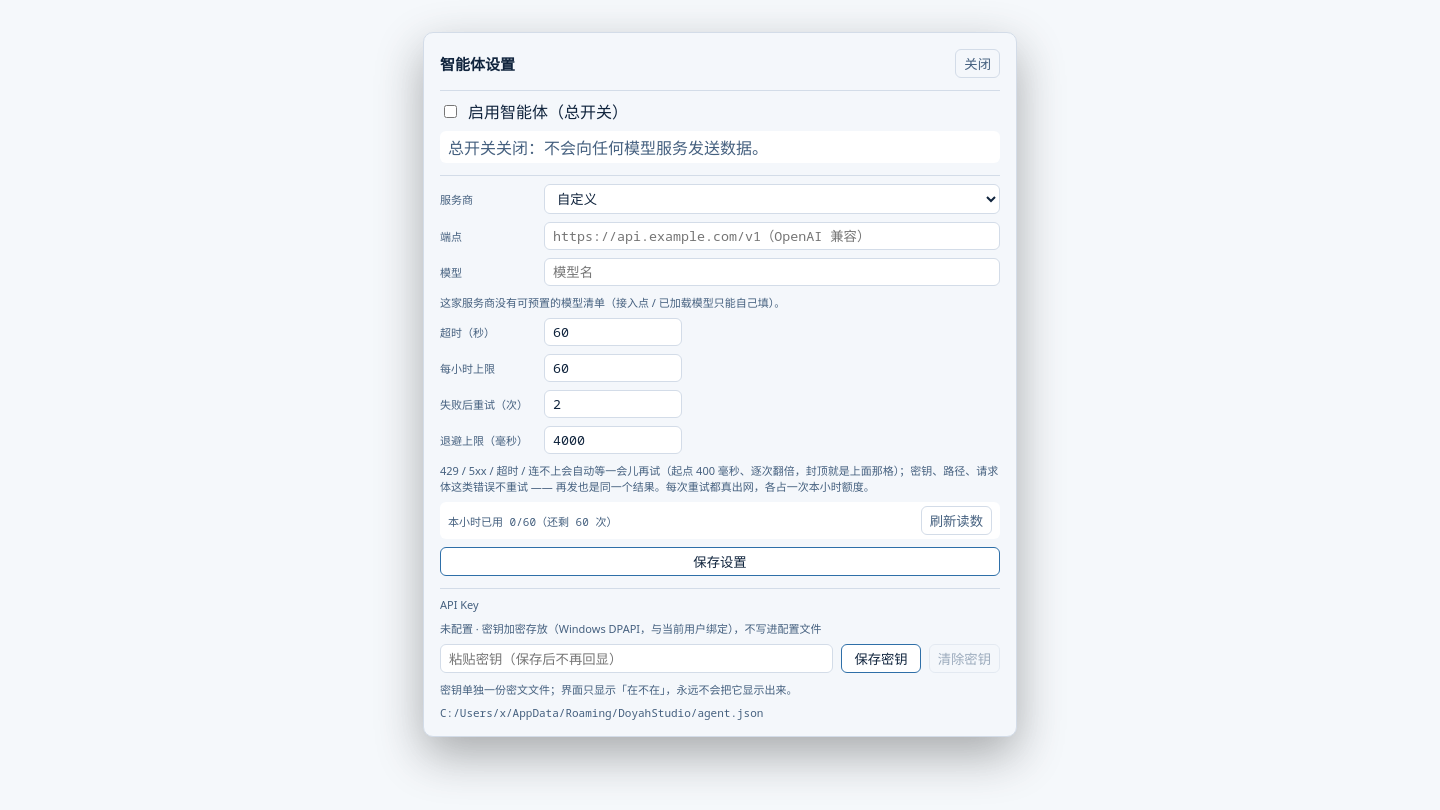
Test: 智能体设置弹层 › 「刷新读数」重取快照，但不把没保存的草稿清掉
Expected: the text with test id "agent-quota-text" shows "0/60", left=448, top=514, right=617, bottom=528
Type "http://localhost:11434/v1" into the field with test id "agent-endpoint" at point(772, 236), box left=544, top=222, right=1000, bottom=250
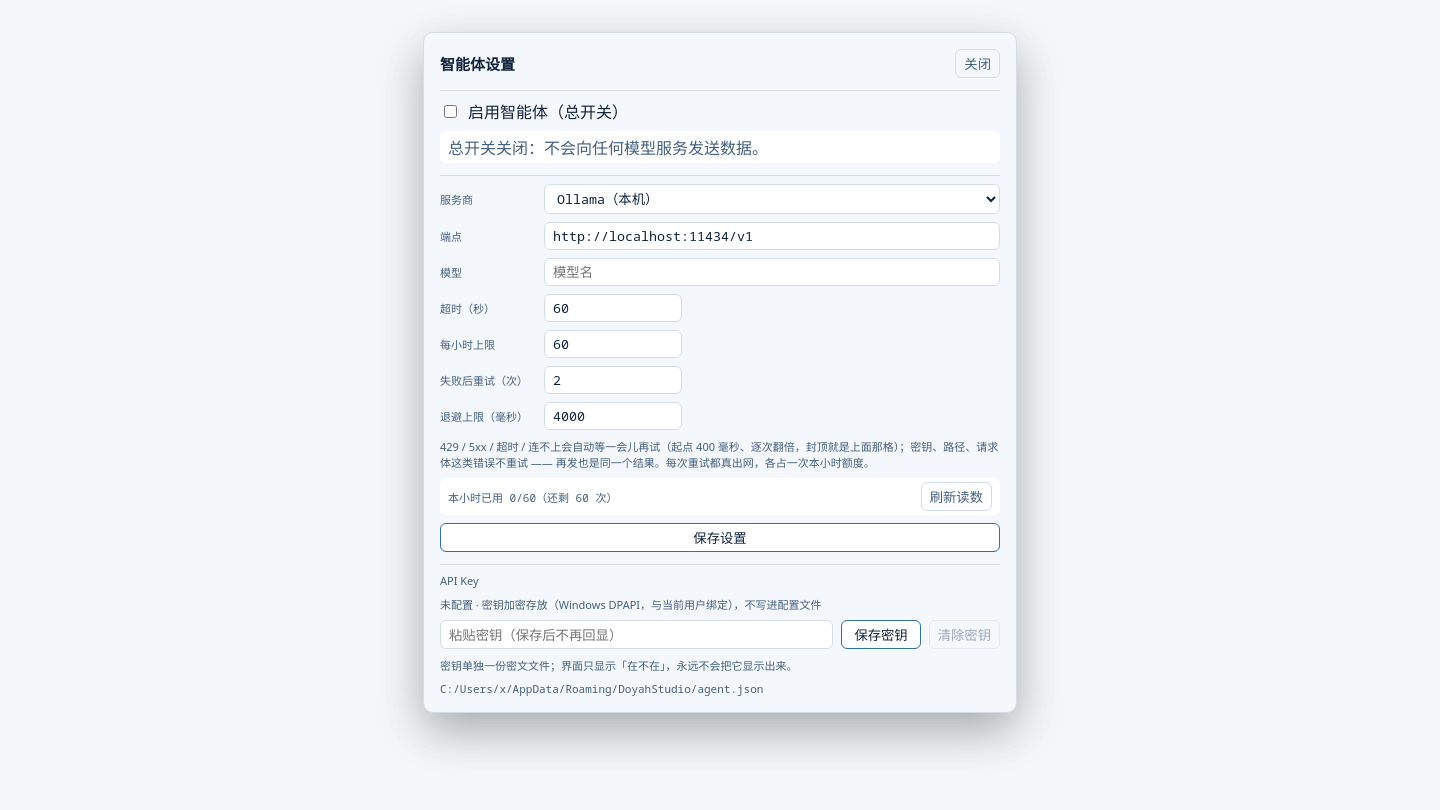
Click the button with test id "agent-quota-refresh" at point(956, 496), box left=921, top=482, right=992, bottom=511
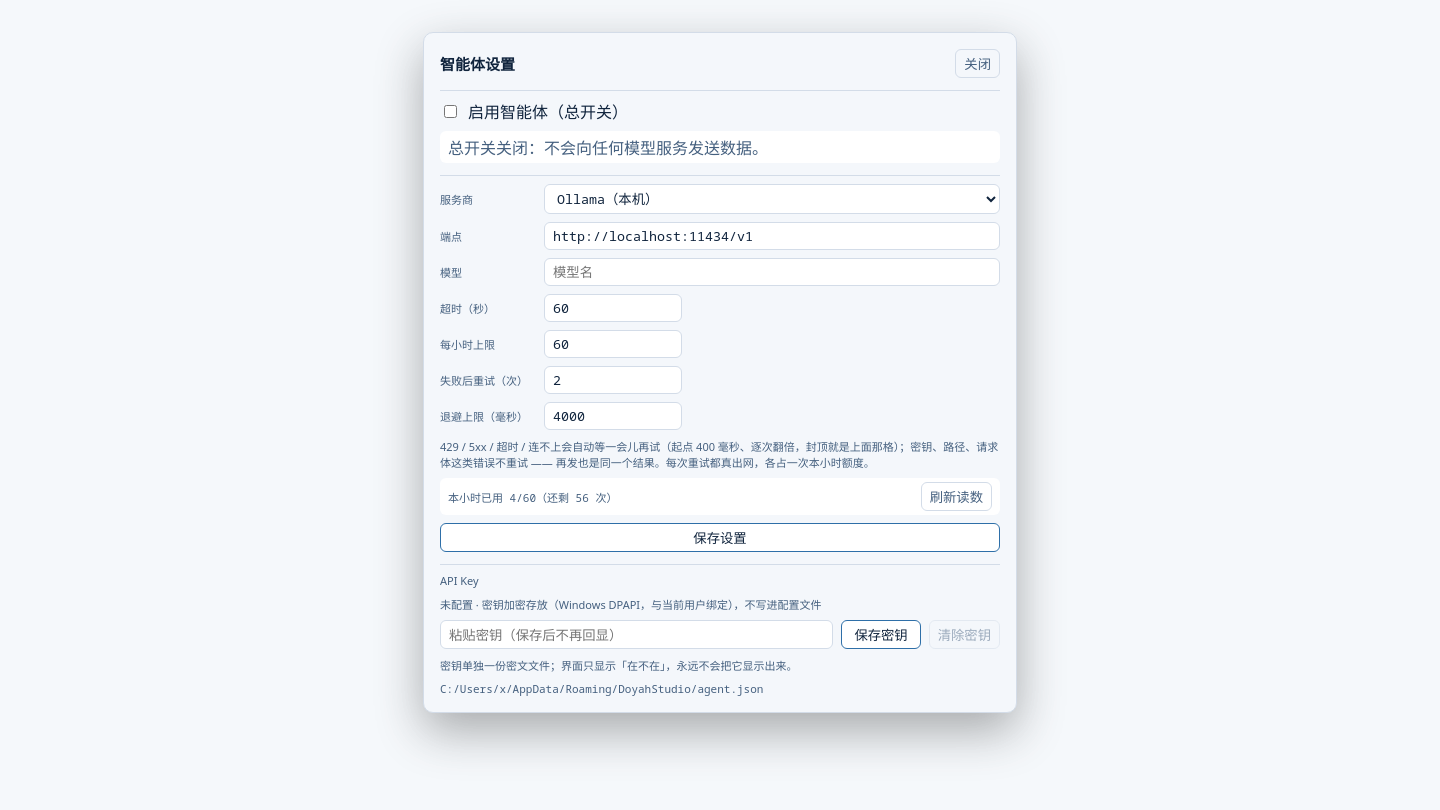
Now the text with test id "agent-quota-text" shows "4/60", box left=448, top=490, right=617, bottom=504
